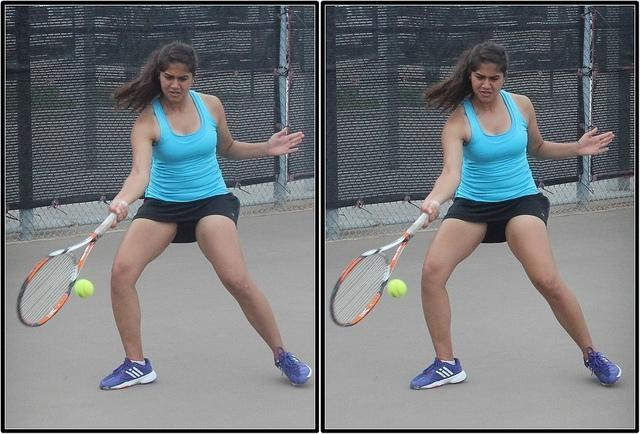car: (195, 6, 313, 69), (93, 6, 188, 65), (4, 4, 85, 71), (498, 7, 582, 66), (332, 22, 362, 58)
